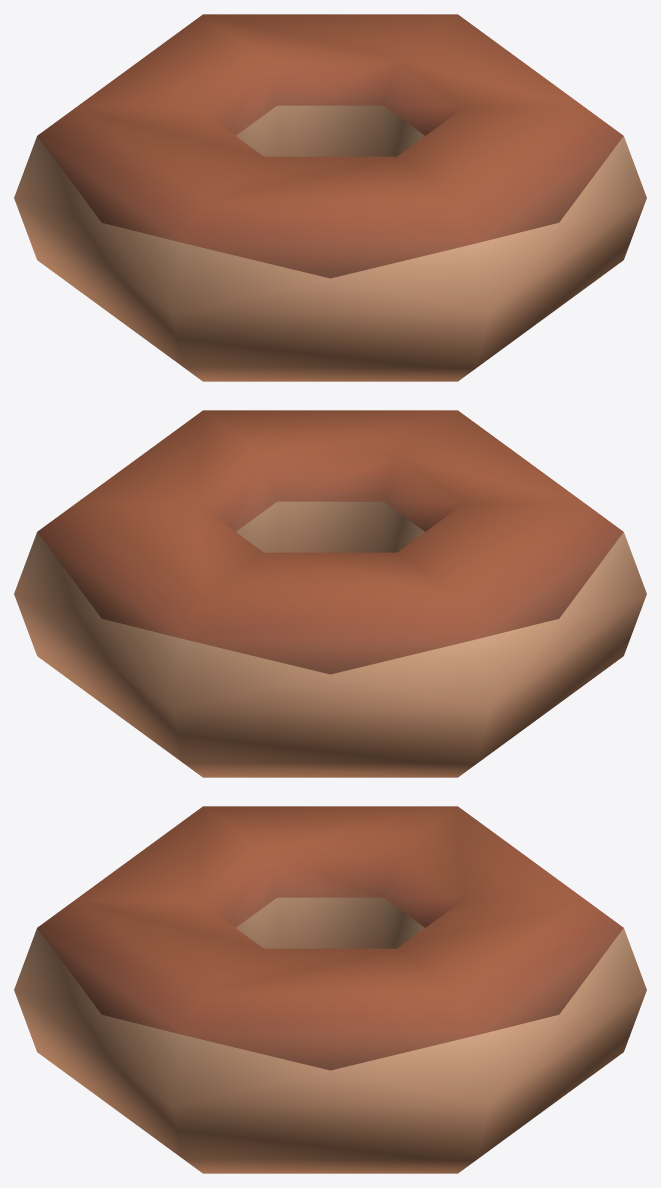
Rendered from kenney-food-donut-chocolate.glb.
3 views of the same model, one above another, from view 1: azimuth 30°, elevation 25°; view 2: azimuth 150°, elevation 25°; view 3: azimuth 270°, elevation 25° (orthographic).
Visible parts, largest first — view 1: donut-chocolate; view 2: donut-chocolate; view 3: donut-chocolate.
Boxes of the visible parts, x1,y1,x2,y2 form: donut-chocolate: (14, 14, 646, 381); donut-chocolate: (14, 410, 646, 777); donut-chocolate: (14, 806, 646, 1173).
Size of the model in its own units: 0.2451 by 0.0889 by 0.283.
1 material, 1 textured.
